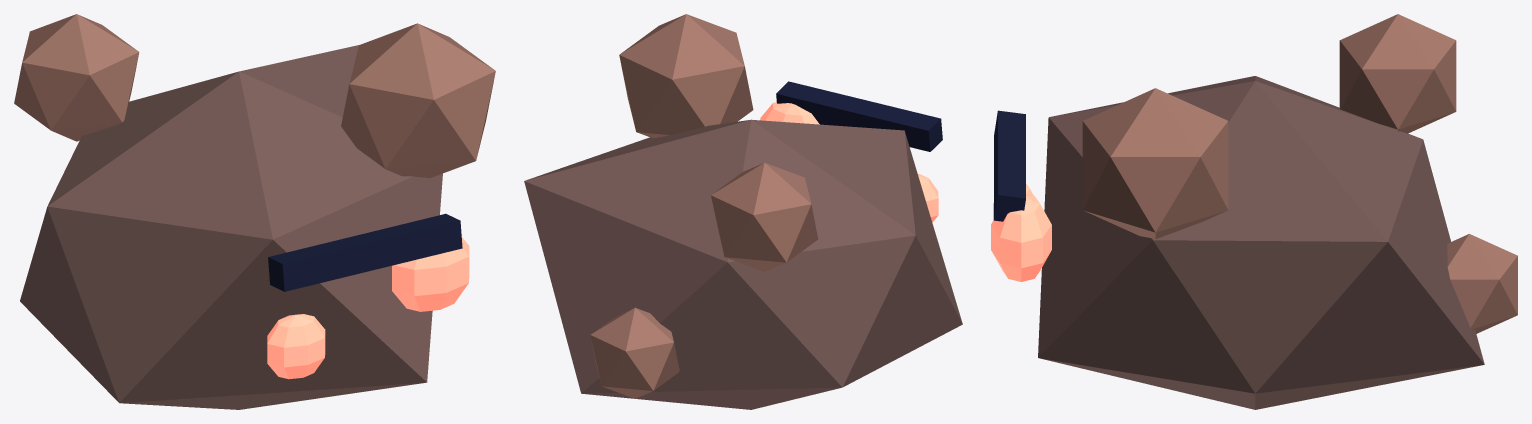
Rendered from drifter.glb.
3 views of the same model, side by side, from view 1: azimuth 30°, elevation 25°; view 2: azimuth 150°, elevation 25°; view 3: azimuth 270°, elevation 25° (orthographic). The views are drawn at different scales.
Parts seen in each view (by area): view 1: Drifter; view 2: Drifter; view 3: Drifter.
Boxes of the visible parts, x1=… form: Drifter: x1=14, y1=14, x2=495, y2=409; Drifter: x1=524, y1=14, x2=962, y2=409; Drifter: x1=991, y1=14, x2=1517, y2=409.
Bounding box in the file's own units: 1.53 × 1.48 × 1.85.
